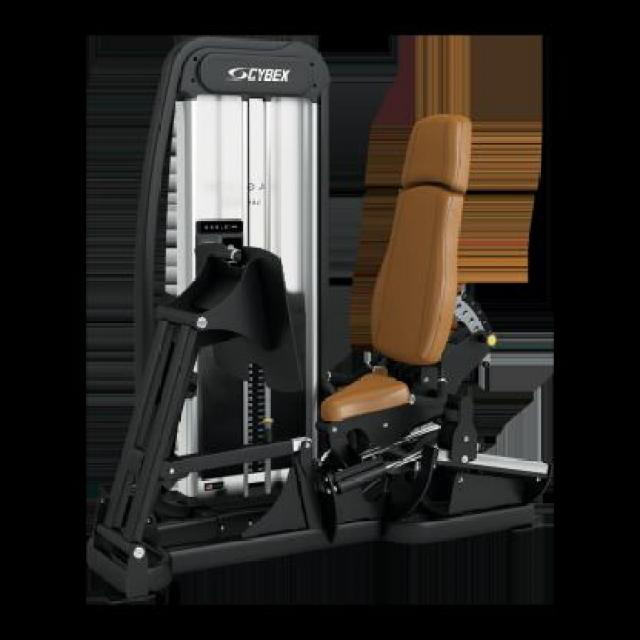leg press: (63, 31, 562, 622)
